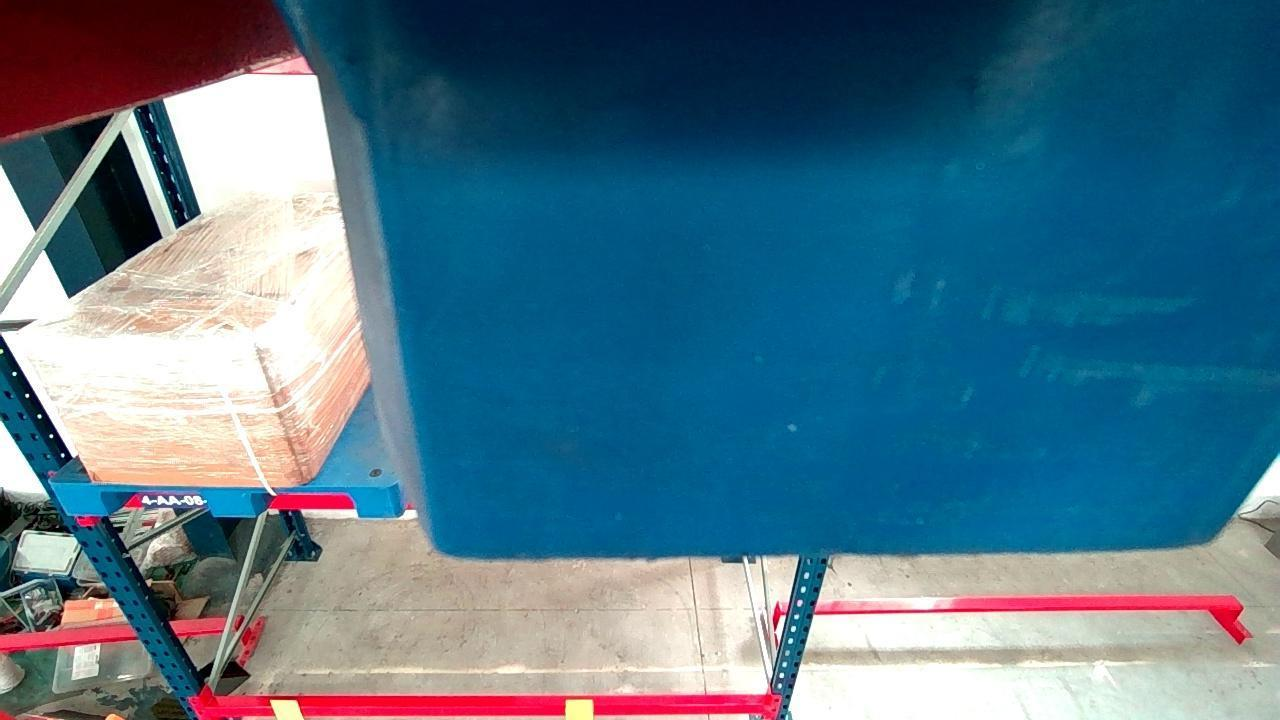h_rack: (198, 703, 775, 719), (136, 490, 404, 512)
orange_strip: (268, 697, 305, 720), (563, 699, 589, 720)
small_pallet: (49, 481, 392, 519)
